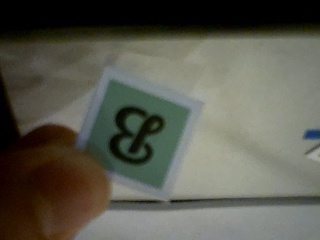B: (81, 77, 191, 190)
